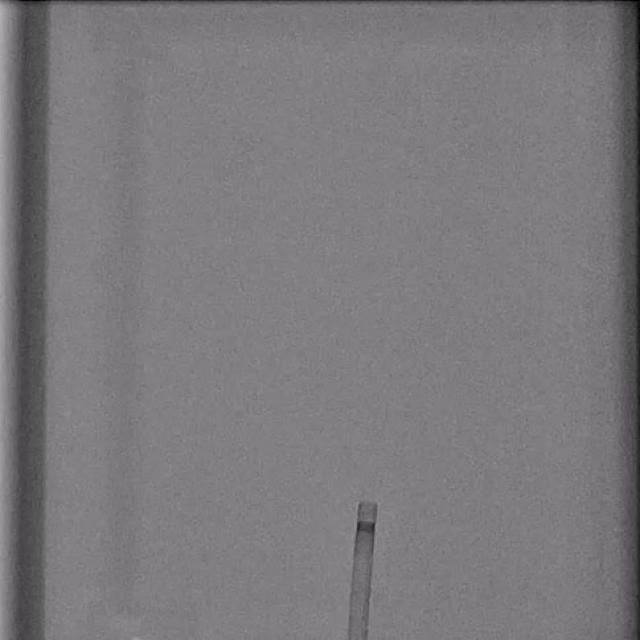entry: (349, 635, 368, 640)
marker: (356, 519, 376, 536)
tip: (358, 502, 378, 507)
